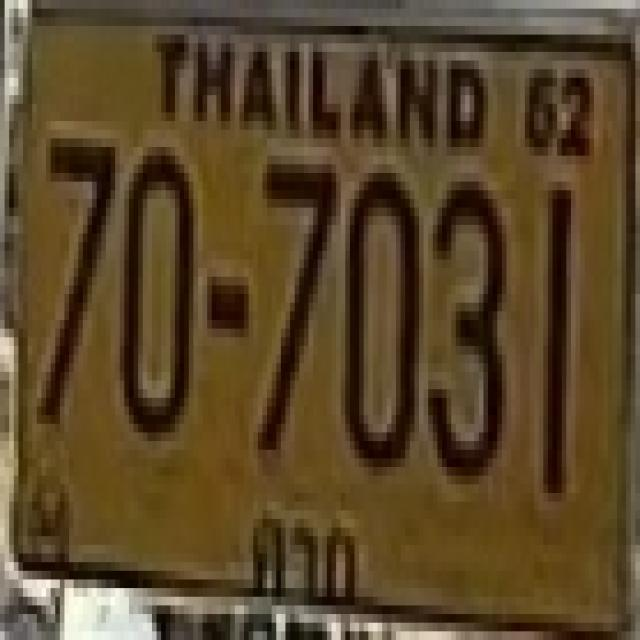0: (341, 164, 414, 458), (115, 143, 189, 428)
1: (539, 177, 566, 489)
3: (423, 173, 502, 476)
7: (258, 156, 331, 450), (41, 126, 110, 420)
TAK: (238, 501, 366, 615)
